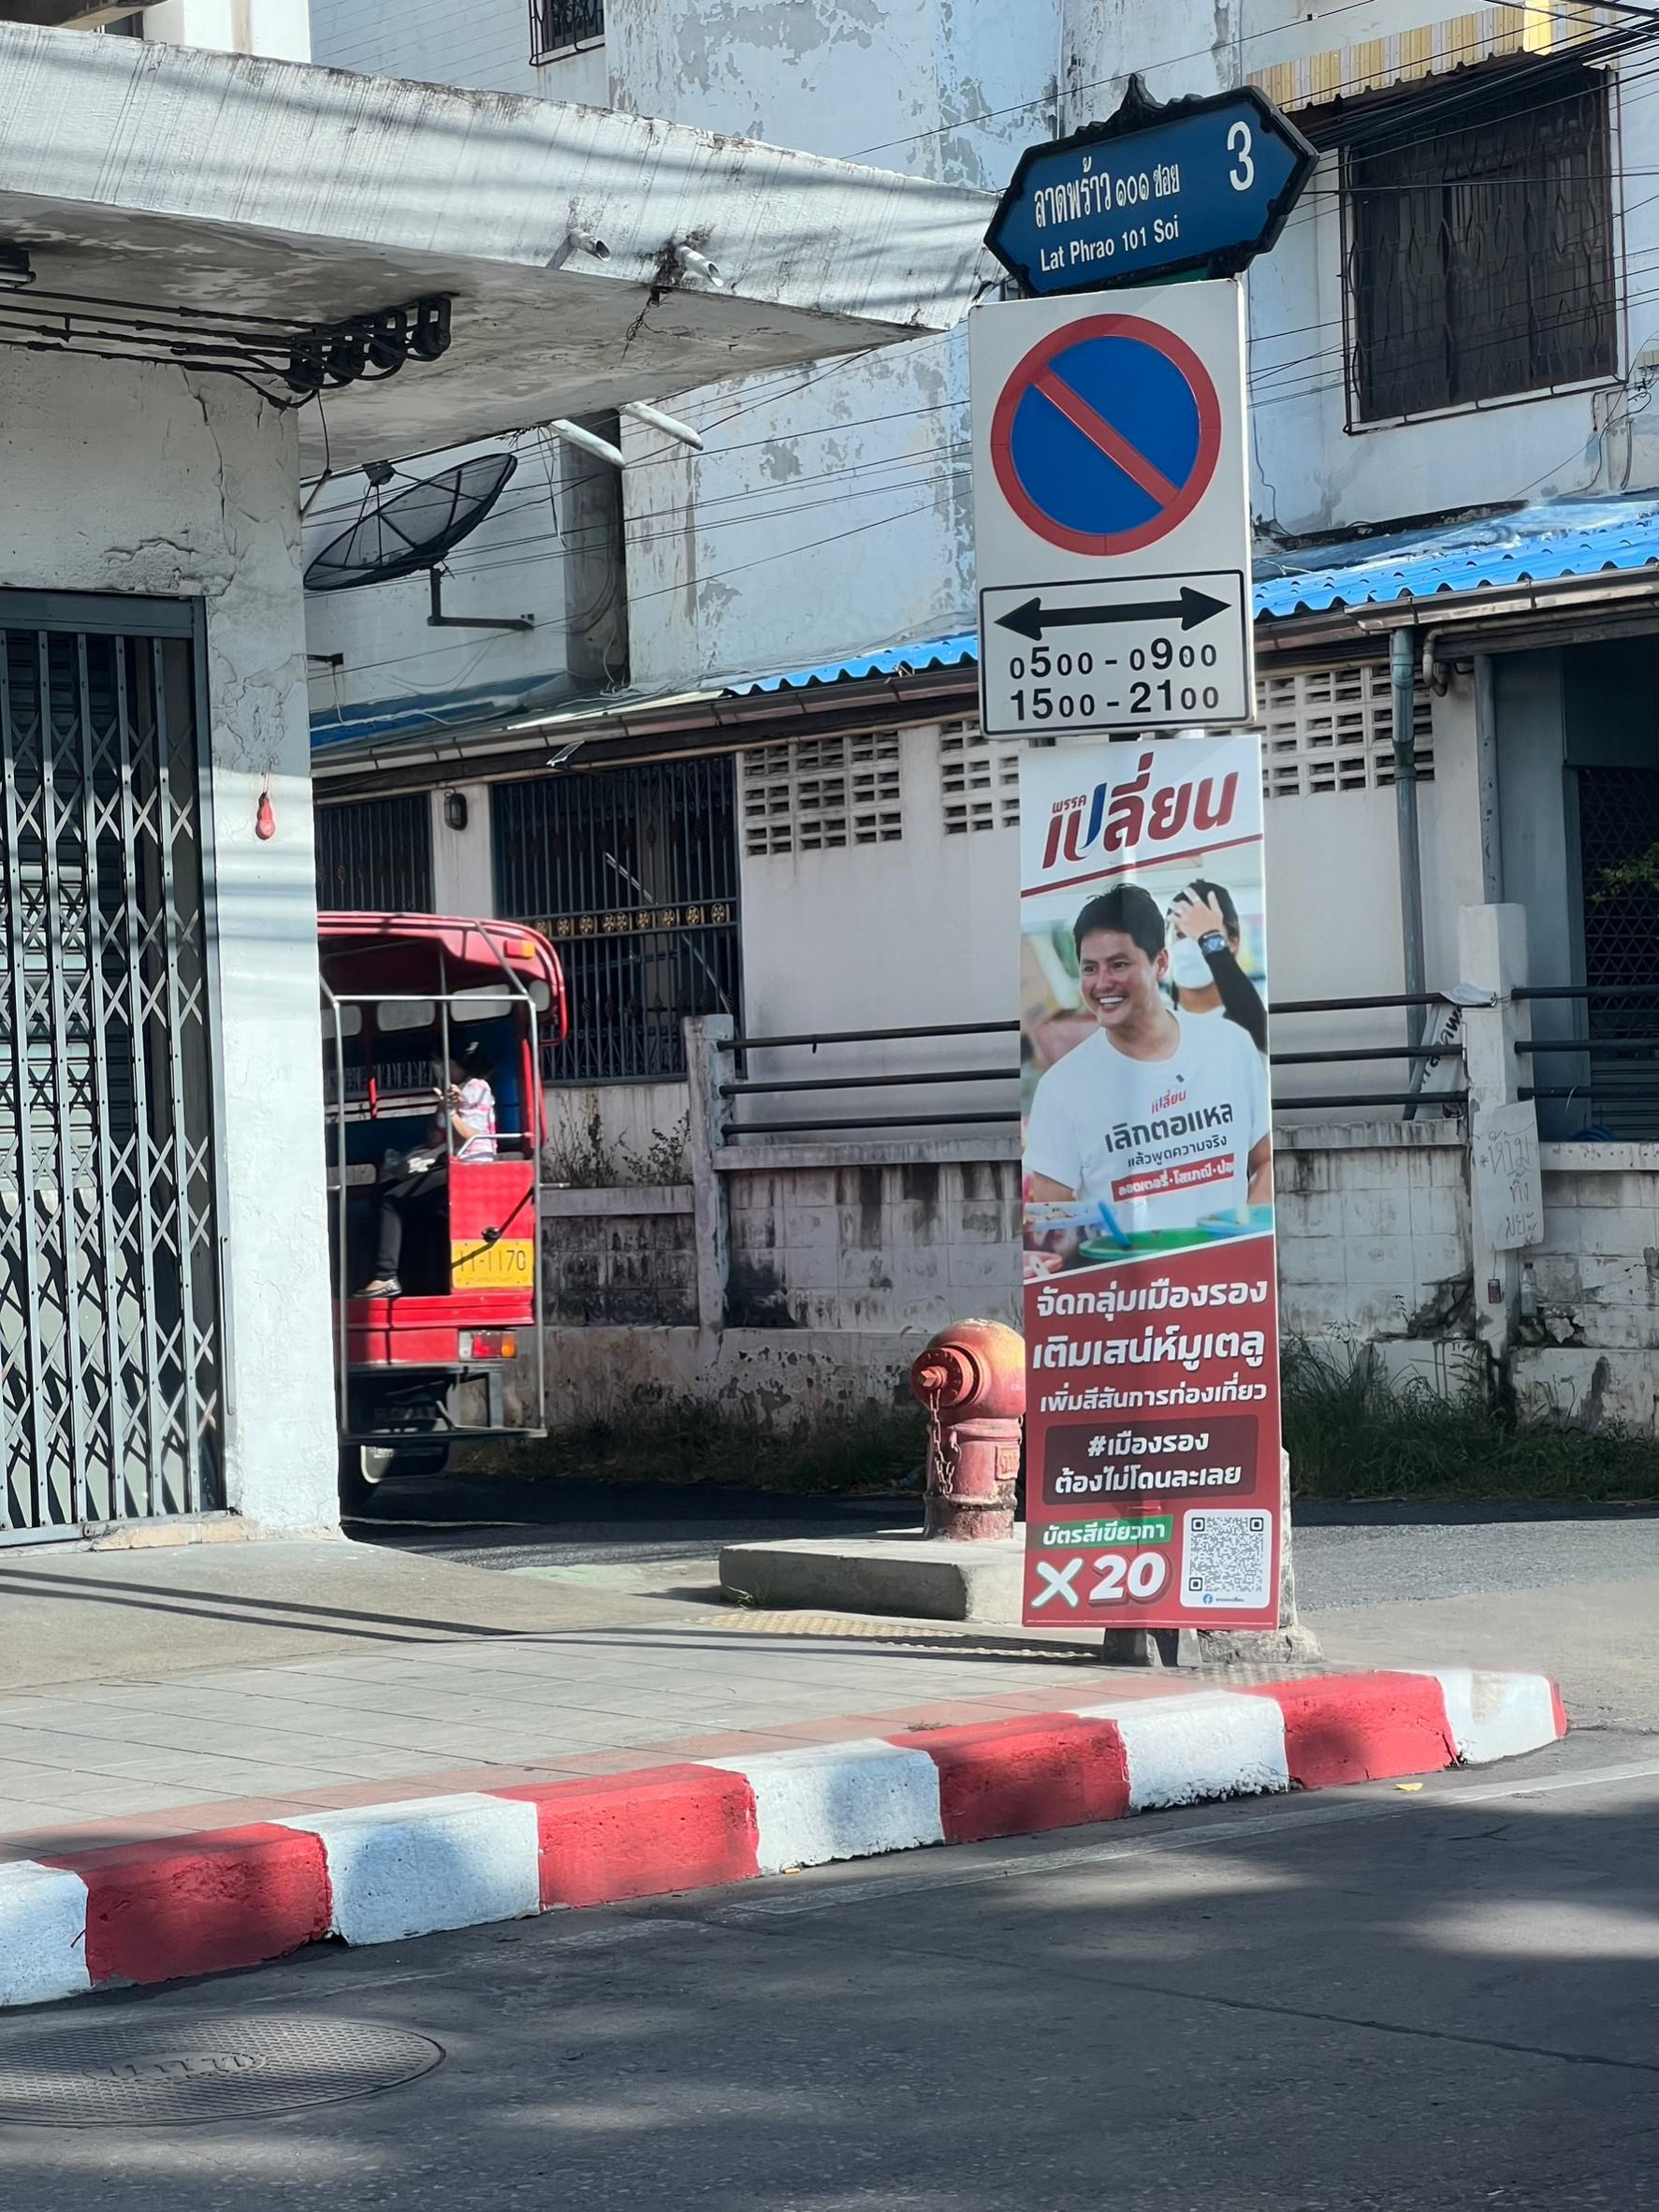Banner: (993, 702, 1337, 1655)
